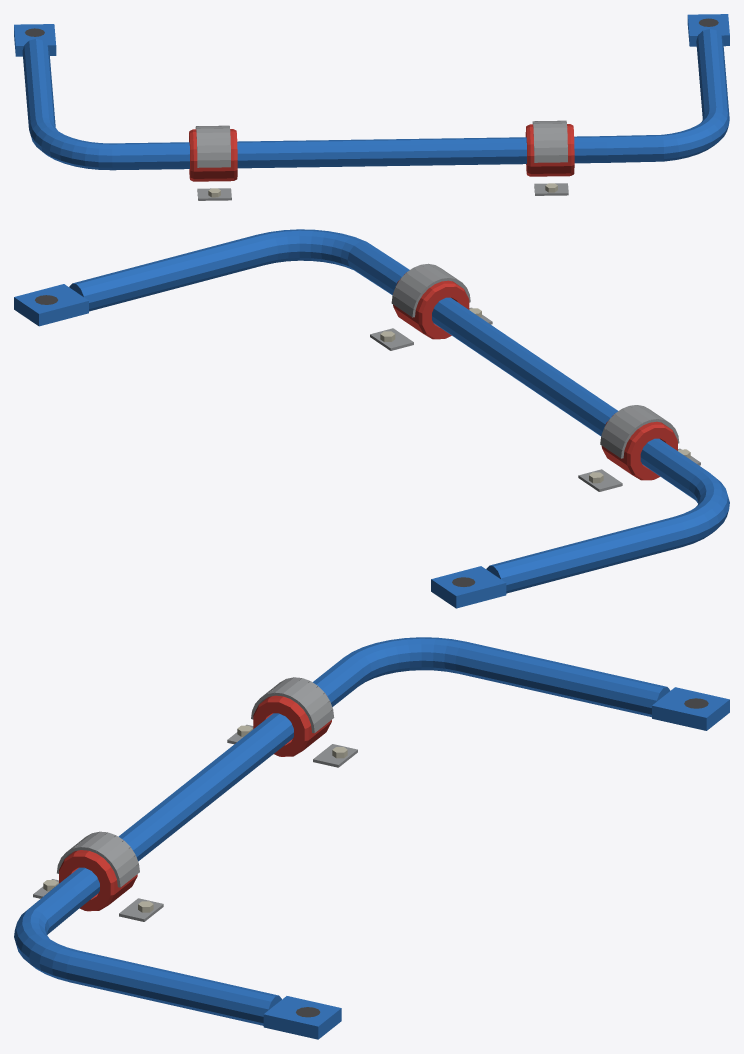
Rendered from item-arb.glb.
3 views of the same model, one above another, from view 1: azimuth 30°, elevation 25°; view 2: azimuth 150°, elevation 25°; view 3: azimuth 270°, elevation 25° (orthographic). The views are drawn at different scales.
Parts seen in each view (by area): view 1: arb; view 2: arb; view 3: arb.
Part boxes in pixels (x1,y1,x2,y2): arb: (14, 14, 729, 200); arb: (14, 229, 729, 608); arb: (14, 637, 729, 1039).
Size of the model in its own units: 0.8843 by 0.066 by 0.6925.
